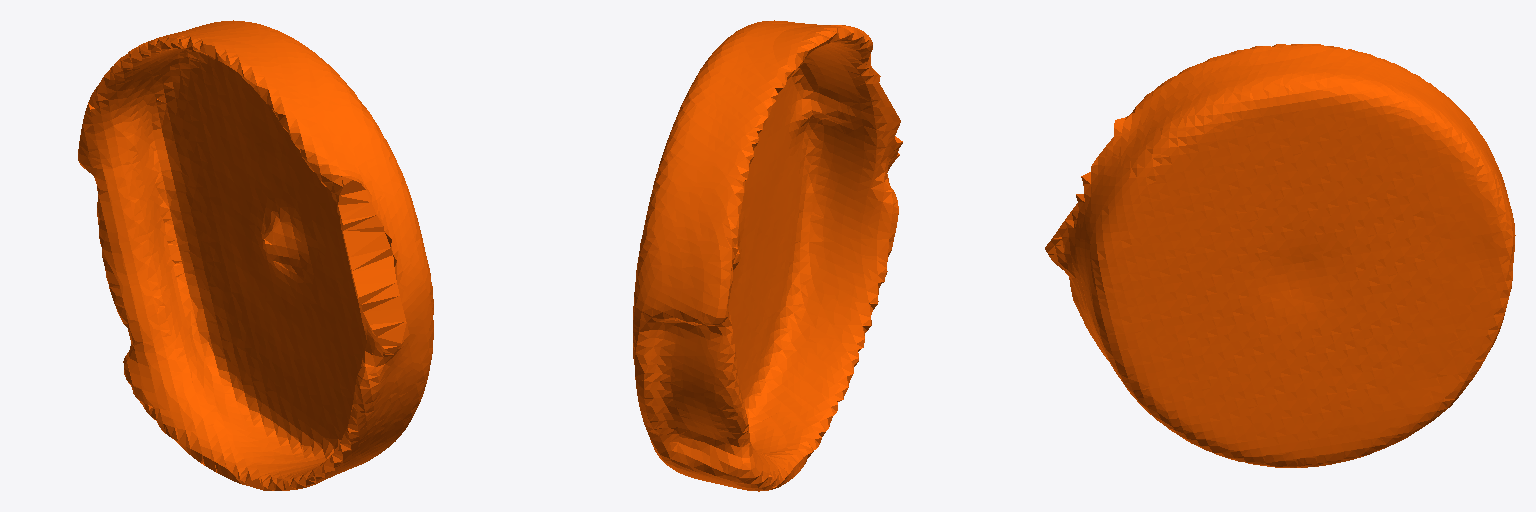
robot.urdf — ketchup:
<?xml version="1.0" ?>
<robot name="ketchup">
   <material name="obj_color">
      <color rgba="1.0 0.423529411765 0.0392156862745 1.0"/>
   </material>
   <link name="top">
      <inertial>
         <origin rpy="1.053697166941137e-06 1.281090536385504e-06 2.220443757011781e-06" xyz="0.007487533823646627 0.02574966577909059 -0.006195972879581655"/>
         <mass value="0.005559019486435759"/>
         <inertia ixx="2.196255524387527e-06" ixy="1.629953608907079e-07" ixz="-1.085217972162108e-08" iyy="1.121817140969148e-06" iyz="8.915361731318121e-08" izz="1.237158794981748e-06"/>
      </inertial>
      <visual>
         <origin rpy="0 0 0" xyz="0 0 0"/>
         <geometry>
            <mesh filename="top_watertight_tiny.stl" scale="1 1 1"/>
         </geometry>
         <material name="obj_color"/>
      </visual>
      <collision>
         <origin rpy="0 0 0" xyz="0 0 0"/>
         <geometry>
            <mesh filename="top_watertight_tiny.obj" scale="1 1 1"/>
         </geometry>
      </collision>
   </link>
   <link name="bottom">
      <inertial>
         <origin rpy="0.0003111517367316898 0.001794153590493836 0.001932949715694781" xyz="-0.1065095731528556 0.0127064691544299 -0.007640686942466999"/>
         <mass value="0.5700573317889485"/>
         <inertia ixx="0.000327540205957619" ixy="-0.0001601662078634189" ixz="-2.138205748964534e-07" iyy="0.001879168755748112" iyz="-6.193442711972026e-05" izz="0.001831546081214574"/>
      </inertial>
      <visual>
         <origin rpy="0 0 0" xyz="0 0 0"/>
         <geometry>
            <mesh filename="bottom_watertight_tiny.stl" scale="1 1 1"/>
         </geometry>
         <material name="obj_color"/>
      </visual>
      <collision>
         <origin rpy="0 0 0" xyz="0 0 0"/>
         <geometry>
            <mesh filename="bottom_watertight_tiny.obj" scale="1 1 1"/>
         </geometry>
      </collision>
   </link>
   <joint name="rotation" type="revolute">
      <origin xyz="0 0 0"/>
      <axis xyz="0 0 -1"/>
      <parent link="bottom"/>
      <child link="top"/>
      <dynamics damping="0.05" friction="0.0001"/>
      <limit effort="1000" velocity="200" lower="0" upper="2.5"/>
   </joint>
</robot>

--- What the picture shows (computed from the rendered views, not written in the file) ---
3 views of the same robot in one strip: view 1: azimuth 30°, elevation 25°; view 2: azimuth 150°, elevation 25°; view 3: azimuth 270°, elevation 25° (orthographic).
Model ketchup with 2 links and 1 joints (1 revolute), rooted at bottom, posed every joint at zero.
Visible links, largest first — view 1: top; view 2: top; view 3: top.
Link boxes in pixels (x1,y1,x2,y2): top: (78,20,433,490); top: (633,20,902,491); top: (1045,44,1515,467).
Bounding box of the posed robot: 0.017 × 0.0527 × 0.0487 m (x, y, z).
Meshes: 2 distinct files referenced, 1 mesh visuals loaded (1 binary STL); not drawn: 1 (reference not matched to a file when rendering).